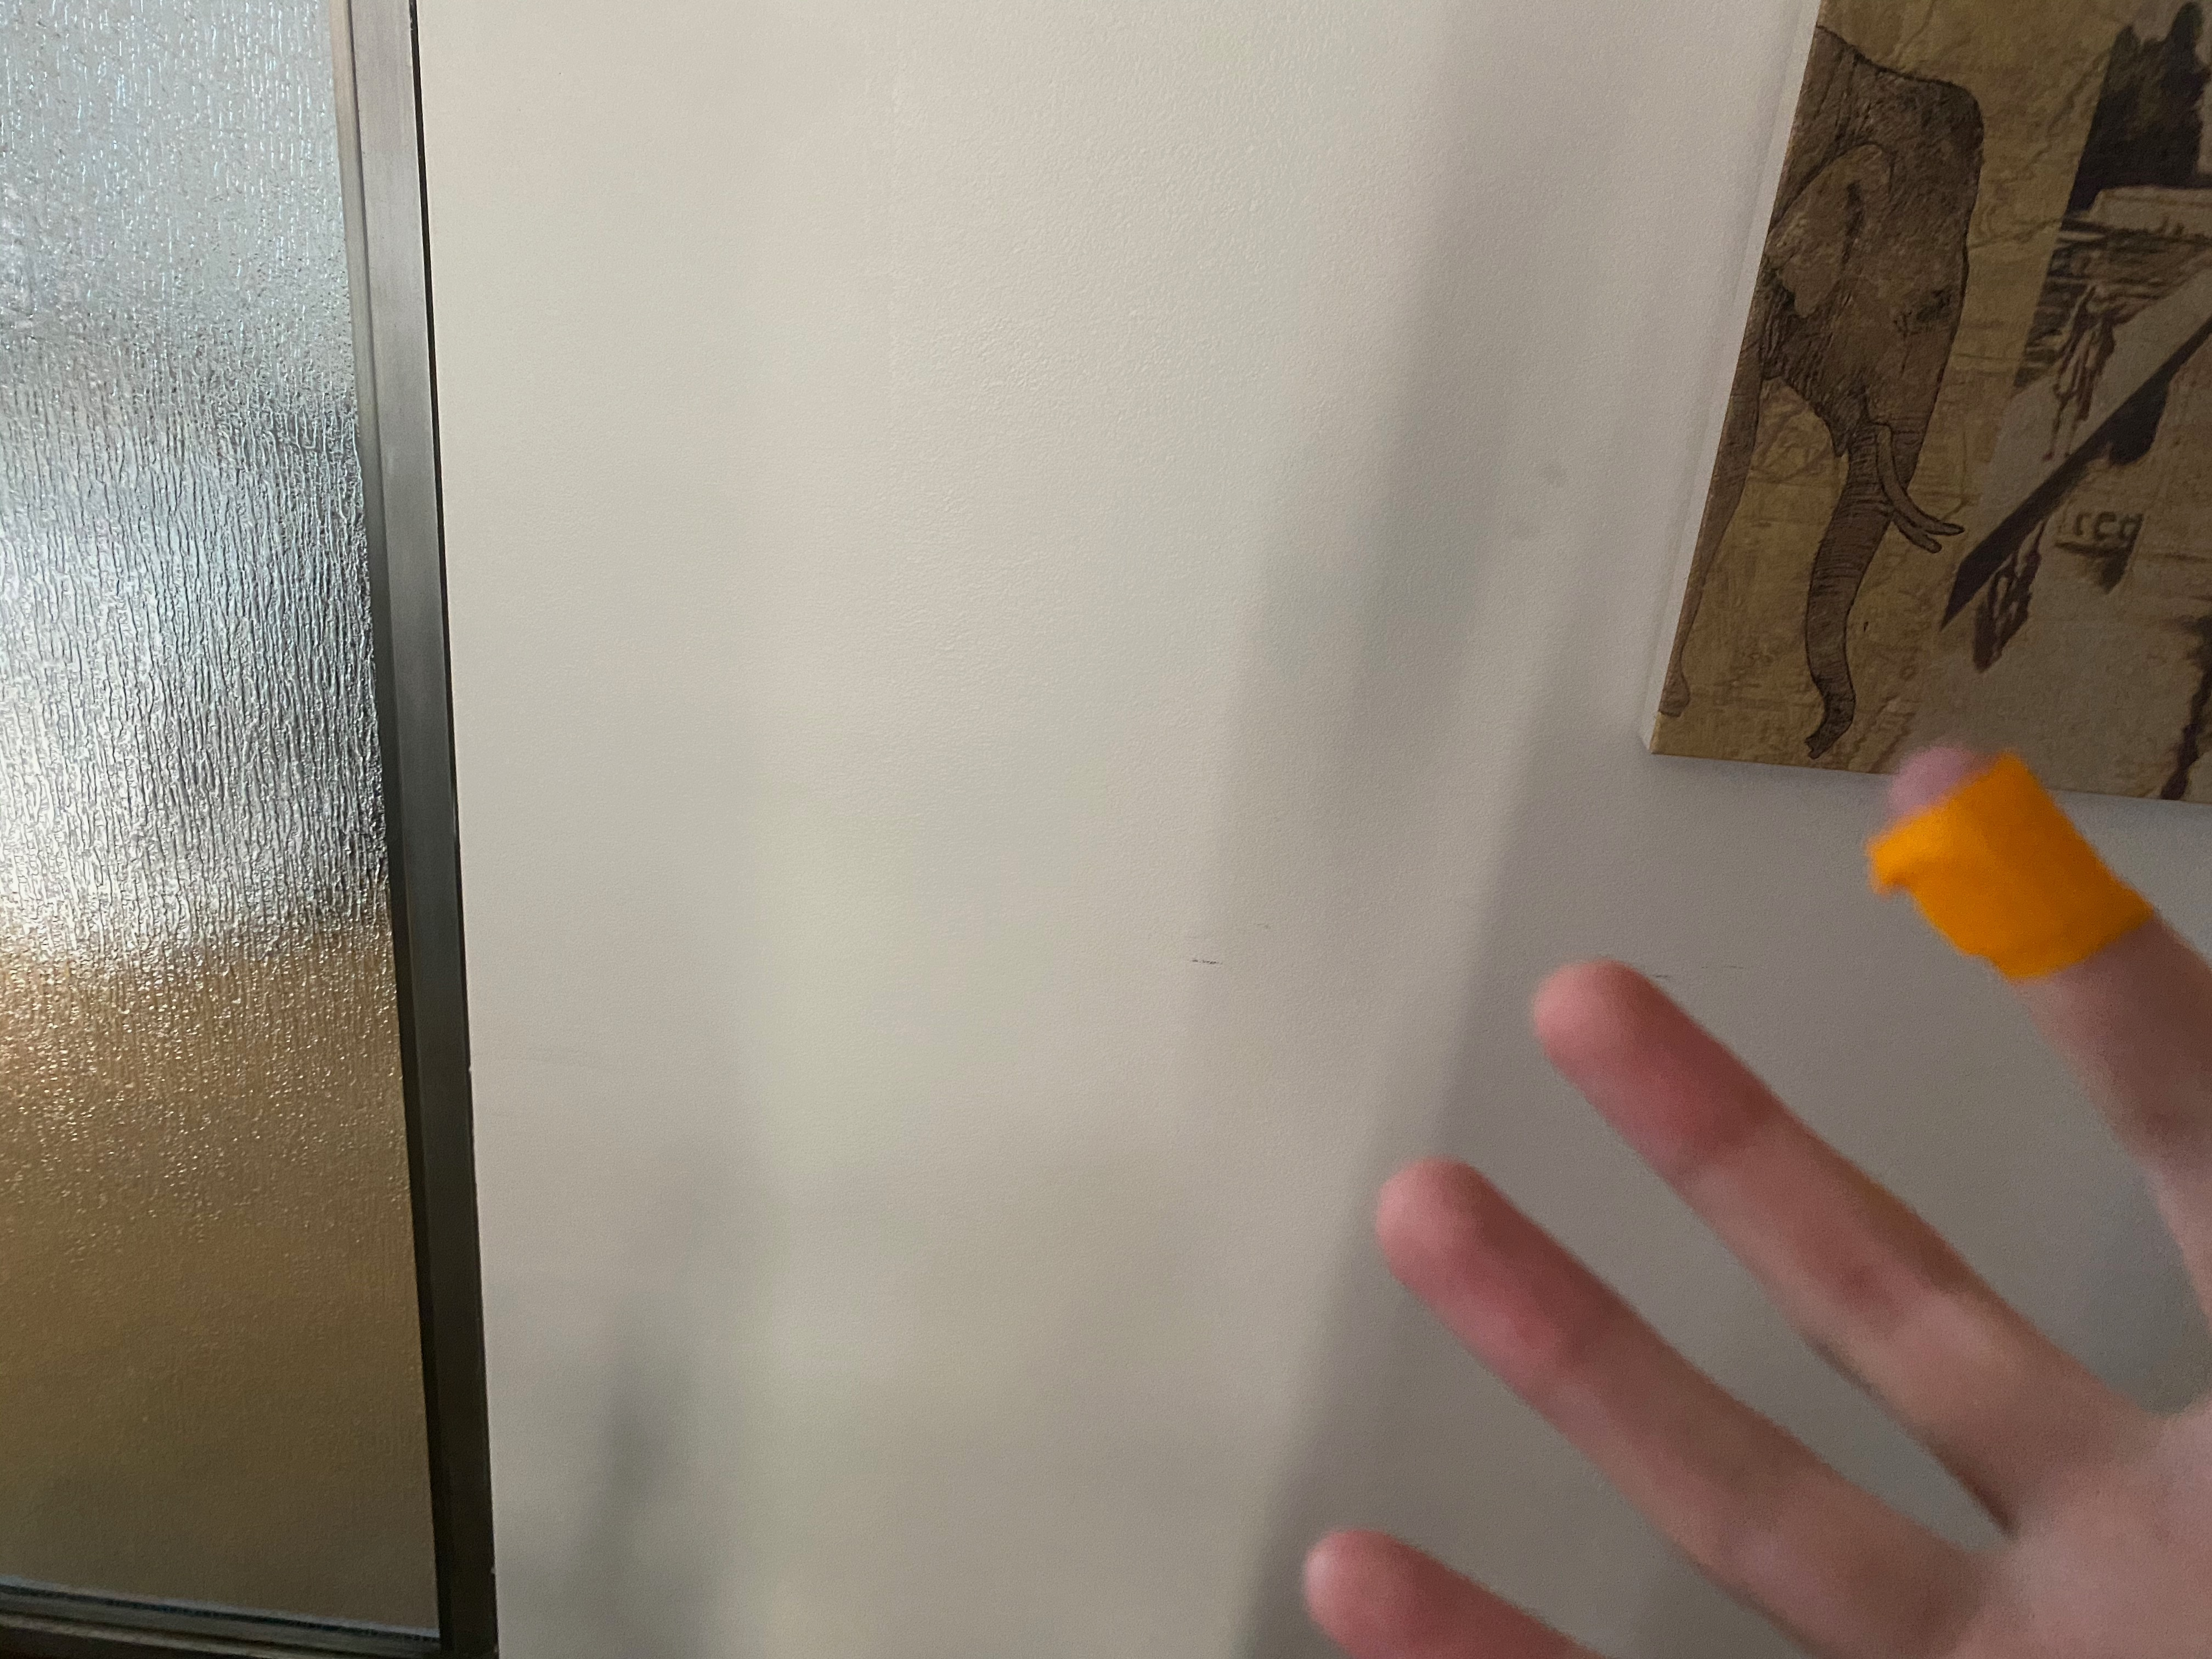fingertip: (1834, 735, 2189, 1084)
